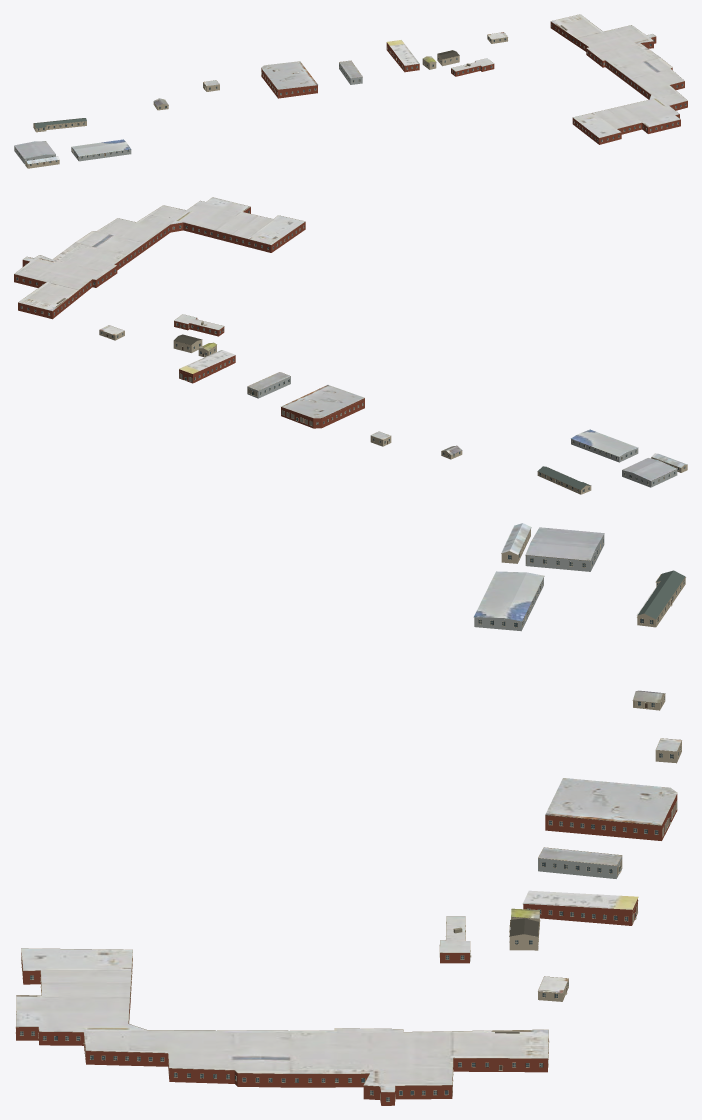
The picture shows the model from 3 angles, top to bottom: view 1: azimuth 30°, elevation 25°; view 2: azimuth 150°, elevation 25°; view 3: azimuth 270°, elevation 25°; orthographic projection. The views are drawn at different scales.
Parts seen in each view (by area): view 1: 1_1_322994063_0, 1_1_322994186_2, 1_1_322994064_1, 1_1_599495381_27; view 2: 1_1_322994063_0, 1_1_322994186_2, 1_1_322994064_1, 1_1_599495381_27; view 3: 1_1_322994063_0, 1_1_322994064_1, 1_1_322994186_2, 1_1_599495381_27.
Part boxes in pixels (<box>): 1_1_322994063_0: <box>14,14,687,166</box>; 1_1_322994186_2: <box>25,35,507,168</box>; 1_1_322994064_1: <box>14,63,362,164</box>; 1_1_599495381_27: <box>34,50,459,128</box>; 1_1_322994063_0: <box>14,197,687,492</box>; 1_1_322994186_2: <box>99,325,687,494</box>; 1_1_322994064_1: <box>247,376,677,487</box>; 1_1_599495381_27: <box>174,334,590,489</box>; 1_1_322994063_0: <box>15,523,685,1105</box>; 1_1_322994064_1: <box>474,534,622,878</box>; 1_1_322994186_2: <box>499,529,685,1070</box>; 1_1_599495381_27: <box>509,570,685,936</box>.
Size of the model in its own units: 521 by 13.22 by 254.
Materials: 14 (1 with a texture image).
